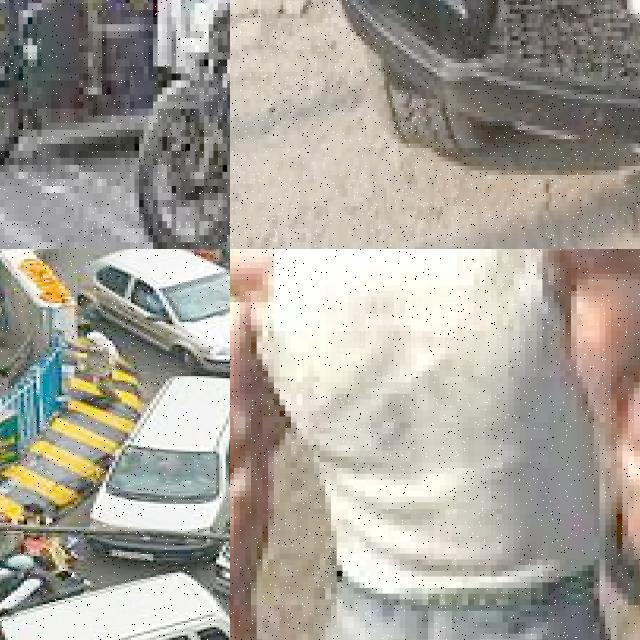bike: (130, 0, 230, 249), (0, 545, 74, 579)
car: (325, 0, 640, 210)
